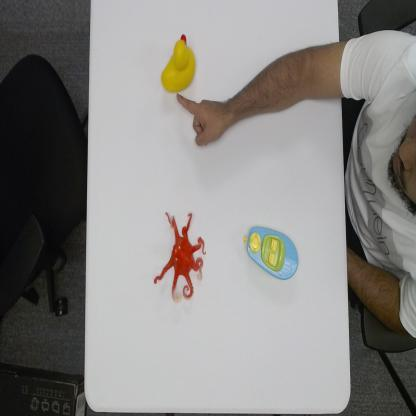Arm: (236, 36, 354, 136)
Boat: (242, 224, 300, 282)
Duck: (160, 32, 196, 93)
Hand: (176, 92, 235, 148)
Octopus: (153, 210, 206, 303)
